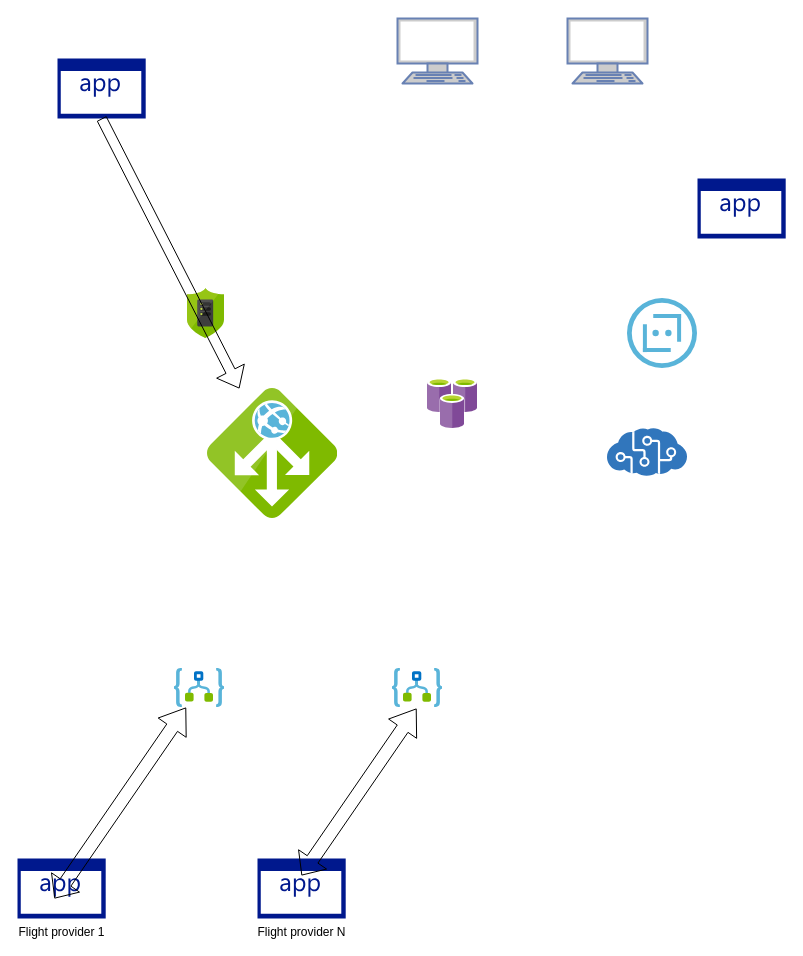
Image size: 803x956. Some labels were removed from this diagram. Each missing label, with the box of its shape:
External API Consumer: (57, 58, 145, 118)
Legacy solution: (697, 178, 785, 238)
